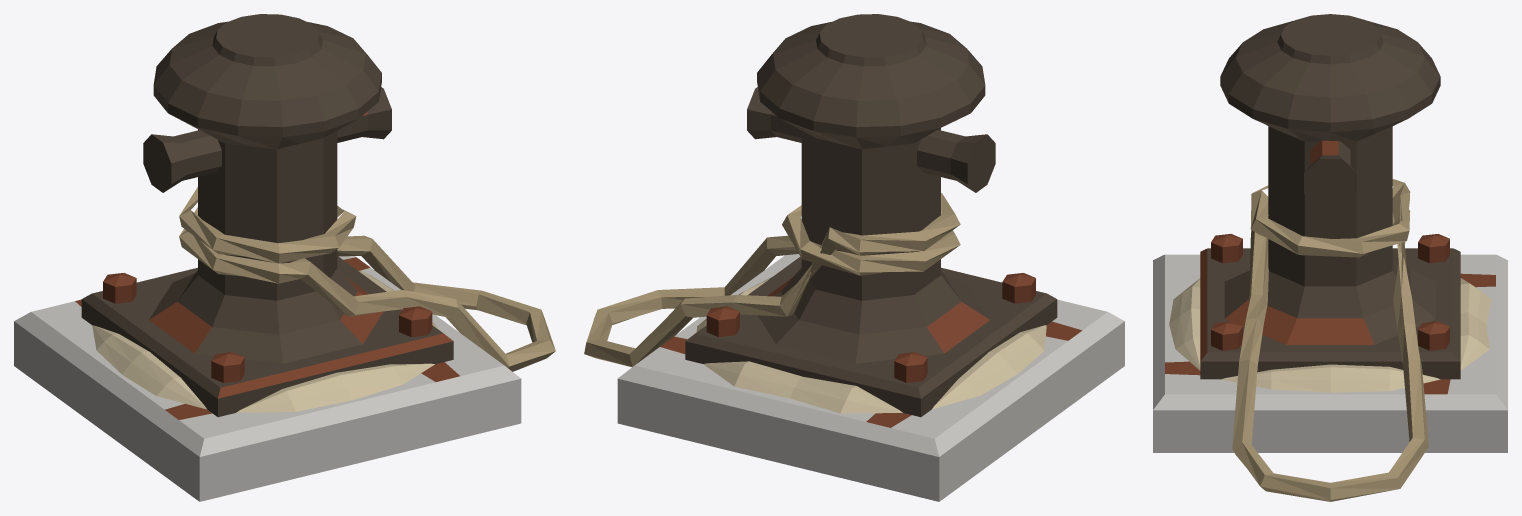
The model's file is mooring-bollard-2d4bc9.glb.
The picture shows the model from 3 angles, left to right: view 1: azimuth 30°, elevation 25°; view 2: azimuth 150°, elevation 25°; view 3: azimuth 270°, elevation 25°; orthographic projection. The views are drawn at different scales.
Visible parts, largest first — view 1: mooring-bollard-2d4bc9; view 2: mooring-bollard-2d4bc9; view 3: mooring-bollard-2d4bc9.
Part boxes in pixels (x1,y1,x2,y2): mooring-bollard-2d4bc9: [14, 14, 555, 501]; mooring-bollard-2d4bc9: [584, 14, 1124, 501]; mooring-bollard-2d4bc9: [1153, 14, 1507, 501].
Size of the model in its own units: 0.8175 by 0.64 by 0.6.
